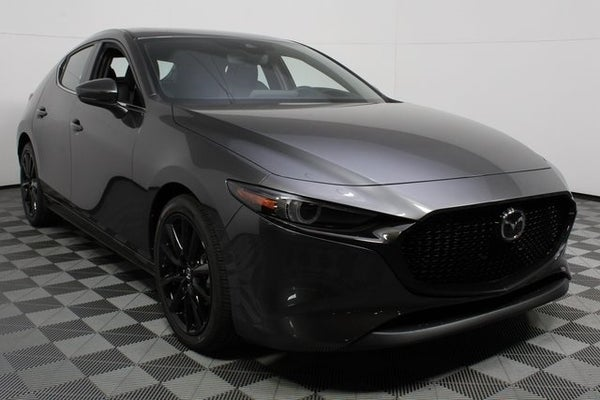Mazda3 Hatchback: (15, 20, 582, 363)
